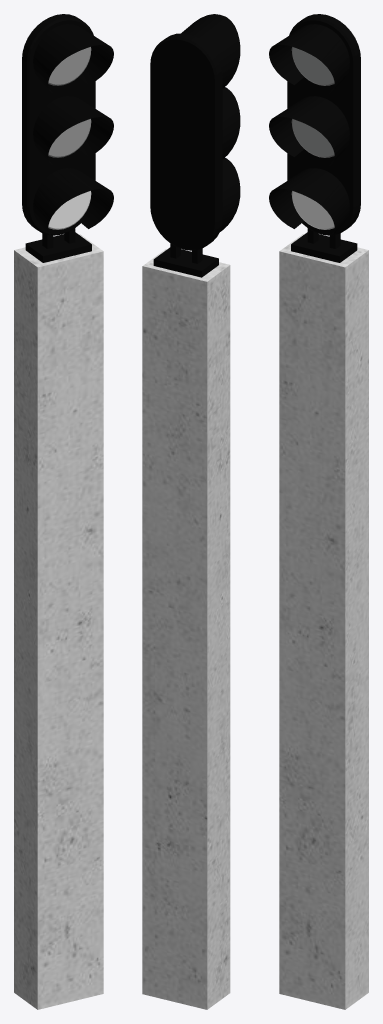
The model's file is signal_lamp_w.obj.
3 views of the same model, side by side, from view 1: azimuth 30°, elevation 25°; view 2: azimuth 150°, elevation 25°; view 3: azimuth 330°, elevation 25° (orthographic).
Parts seen in each view (by area): view 1: 4.002; view 2: 4.002; view 3: 4.002.
Boxes of the visible parts, bbox=[...] form: 4.002: bbox=[14, 14, 113, 1009]; 4.002: bbox=[142, 14, 240, 1009]; 4.002: bbox=[269, 14, 368, 1009].
Bounding box in the file's own units: 0.276 × 3.74 × 0.3229.
Materials: 3 (3 with a texture image).
